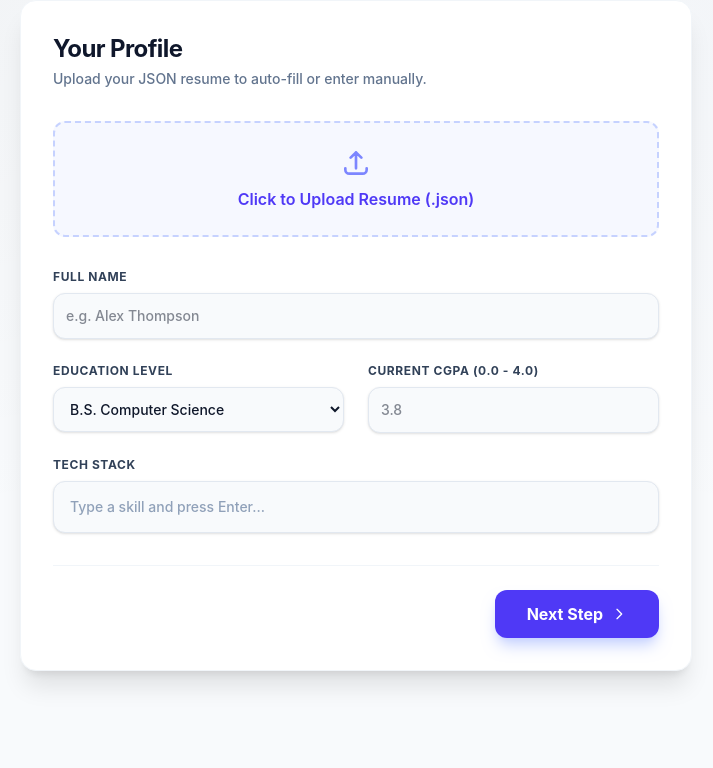
Test: ProfileSetup Component (Zod Validation) › catches empty form submissions and displays the Zod Full Name error
Expected: the heading "Your Profile" is shown, [53,34,182,63]
Note: Find the "Next Step" button and click it immediately (leaving the form completely blank)
Step 1. Click the button "Next Step" → (577, 614), box [495,590,659,638]
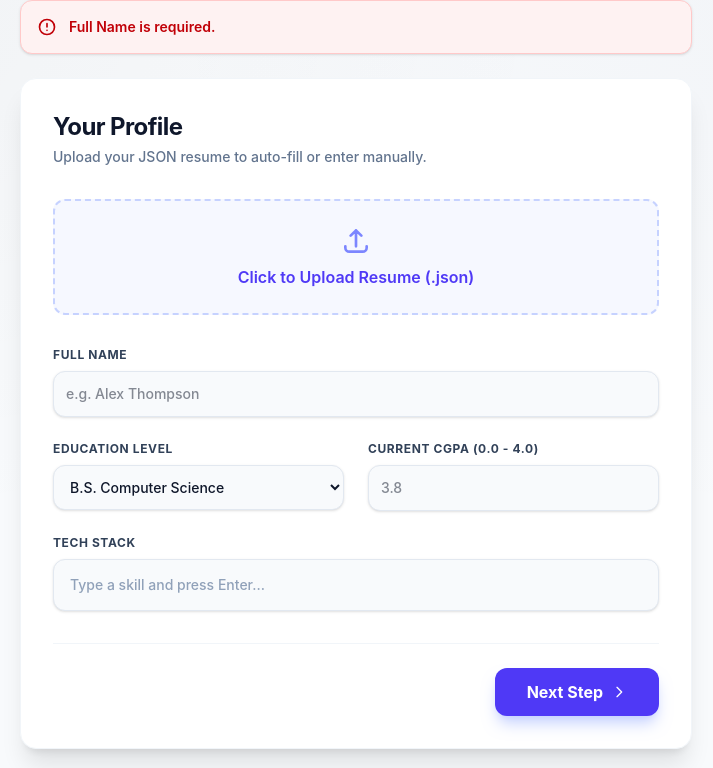
Now the text "Full Name is required." is shown, box [20,0,692,54]
